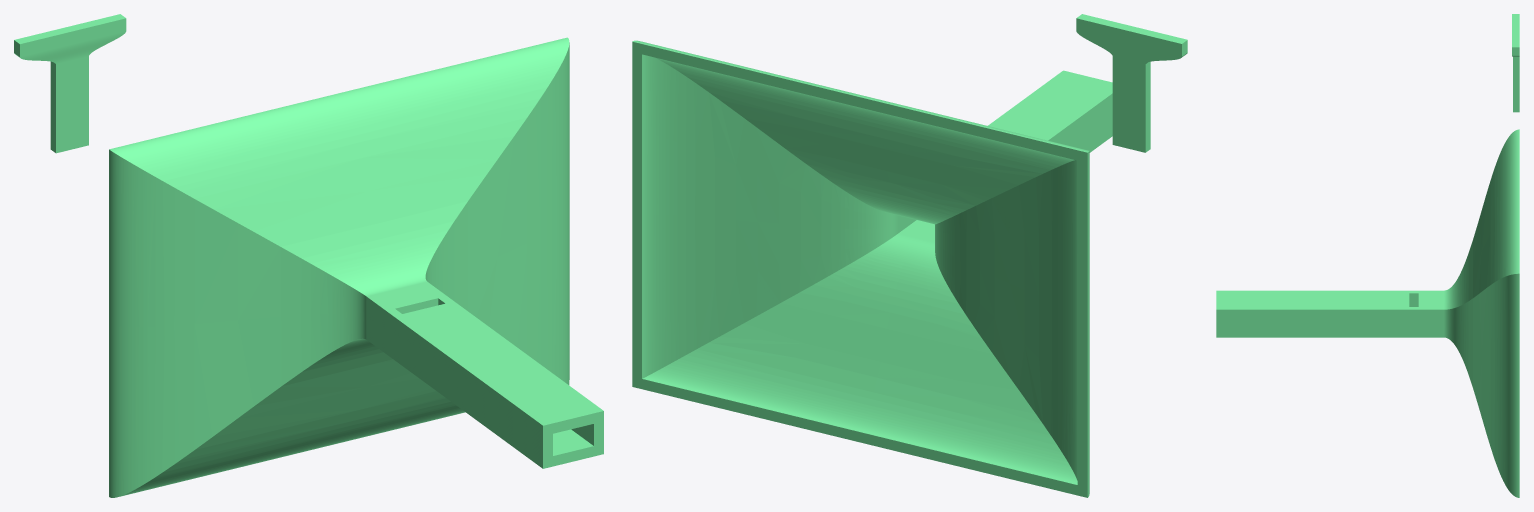
File: seed_funnel.glb
3 renders of one model, left to right at view 1: azimuth 30°, elevation 25°; view 2: azimuth 150°, elevation 25°; view 3: azimuth 270°, elevation 25°, orthographic. The views are drawn at different scales.
Bounding box in the file's own units: 138 × 114 × 102.
